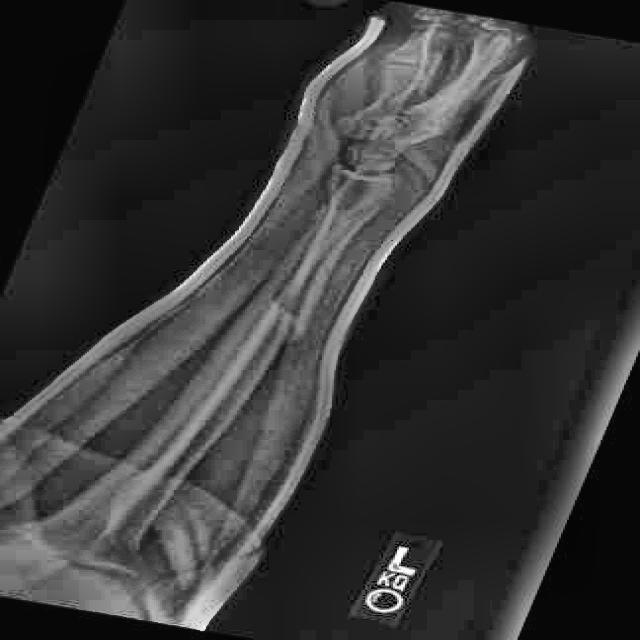forearm fracture: (191, 267, 352, 379)
